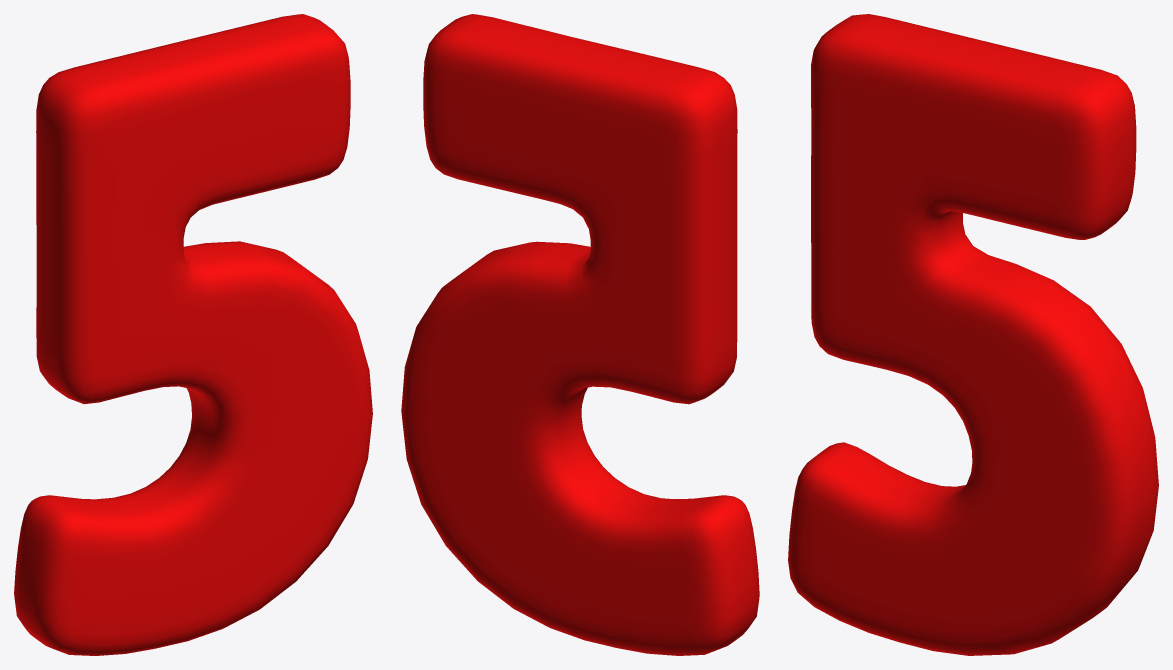
The picture shows the model from 3 angles, left to right: view 1: azimuth 30°, elevation 25°; view 2: azimuth 150°, elevation 25°; view 3: azimuth 330°, elevation 25°; orthographic projection. The views are drawn at different scales.
Visible parts, largest first — view 1: 5; view 2: 5; view 3: 5.
Part boxes in pixels (x1,y1,x2,y2): 5: (14,14,372,655); 5: (401,14,759,655); 5: (788,14,1158,655).
Size of the model in its own units: 85.85 by 142 by 20.
